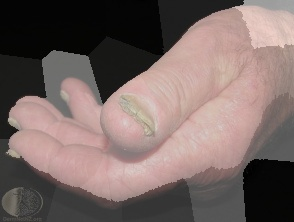Nail_psoriasis: (112, 82, 172, 151), (52, 81, 78, 111), (2, 140, 27, 165), (2, 112, 27, 135)
